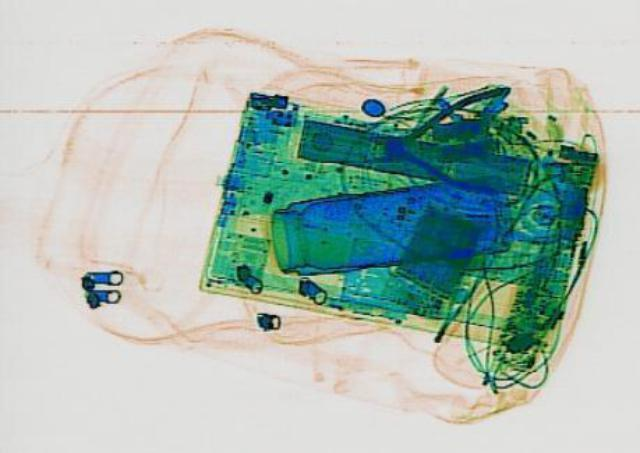Pliers: (354, 83, 528, 202)
